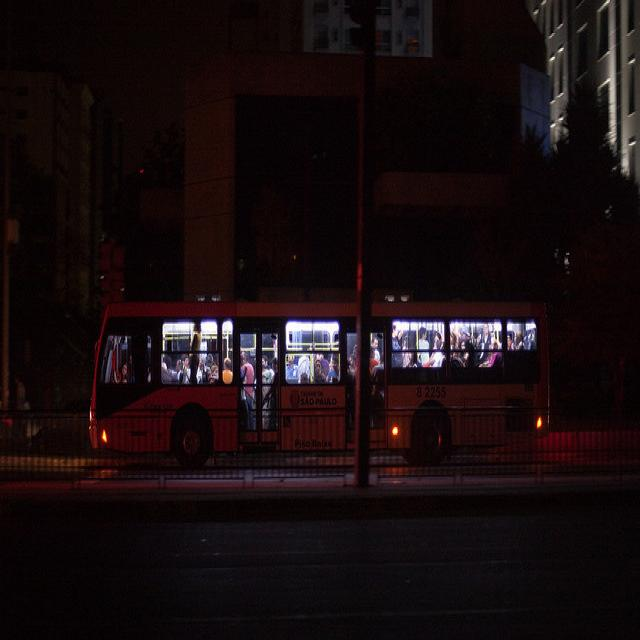Bus: (62, 298, 559, 480)
People: (359, 333, 386, 420), (182, 308, 206, 399), (263, 340, 283, 422), (215, 341, 240, 395), (103, 346, 137, 385), (476, 320, 499, 376), (238, 342, 253, 426), (423, 320, 445, 375), (318, 340, 338, 389), (446, 326, 467, 369), (159, 346, 176, 399), (295, 344, 312, 394)
